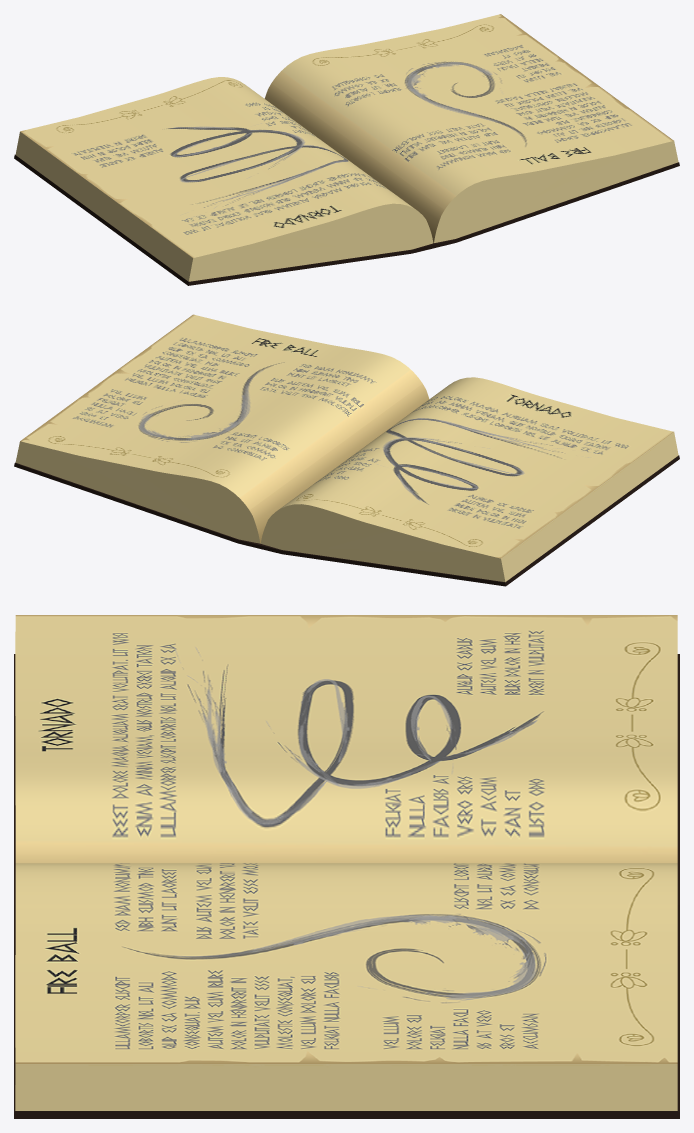
Rendered from Grimoire.fbx.
3 views of the same model, one above another, from view 1: azimuth 30°, elevation 25°; view 2: azimuth 150°, elevation 25°; view 3: azimuth 270°, elevation 25° (orthographic). The views are drawn at different scales.
Visible parts, largest first — view 1: Volumen derecho, Volumen izquierdo, Tapa izquierda, Tapa derecha; view 2: Volumen derecho, Volumen izquierdo, Tapa izquierda, Tapa derecha; view 3: Volumen izquierdo, Volumen derecho, Tapa derecha, Tapa izquierda.
Boxes of the visible parts, x1=… form: Volumen derecho: x1=264, y1=14, x2=678, y2=242; Volumen izquierdo: x1=15, y1=77, x2=433, y2=281; Tapa izquierda: x1=14, y1=154, x2=433, y2=285; Tapa derecha: x1=433, y1=162, x2=679, y2=248; Volumen derecho: x1=15, y1=314, x2=429, y2=543; Volumen izquierdo: x1=260, y1=377, x2=678, y2=582; Tapa izquierda: x1=260, y1=455, x2=679, y2=586; Tapa derecha: x1=14, y1=462, x2=260, y2=548; Volumen izquierdo: x1=15, y1=615, x2=677, y2=863; Volumen derecho: x1=15, y1=863, x2=677, y2=1110; Tapa derecha: x1=14, y1=925, x2=679, y2=1118; Tapa izquierda: x1=14, y1=654, x2=679, y2=925.
Bounding box in the file's own units: 18.33 × 1.96 × 11.24.
2 materials, 1 textured.
